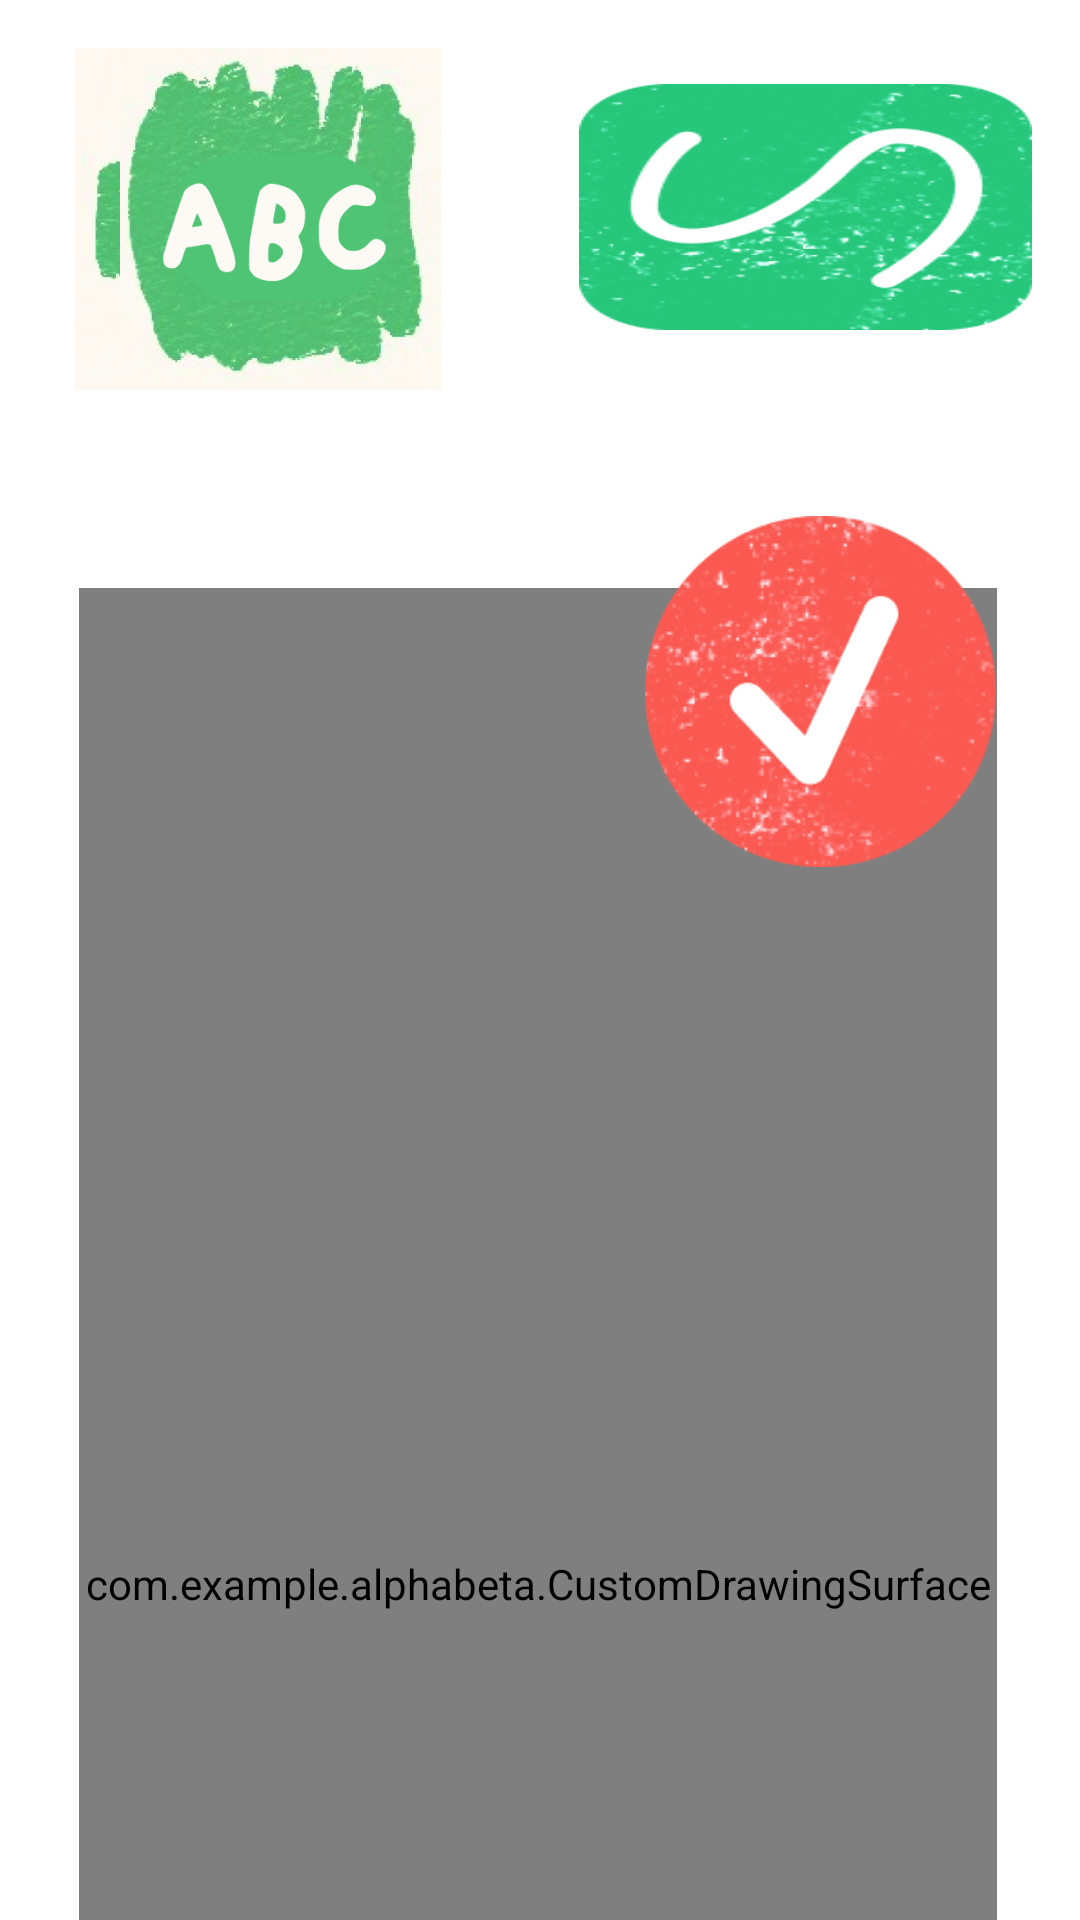

Where to tap for icons on this 1080px×1920px app screen, as (x=x, y=y):
proverkaclean: (x=820, y=691)
